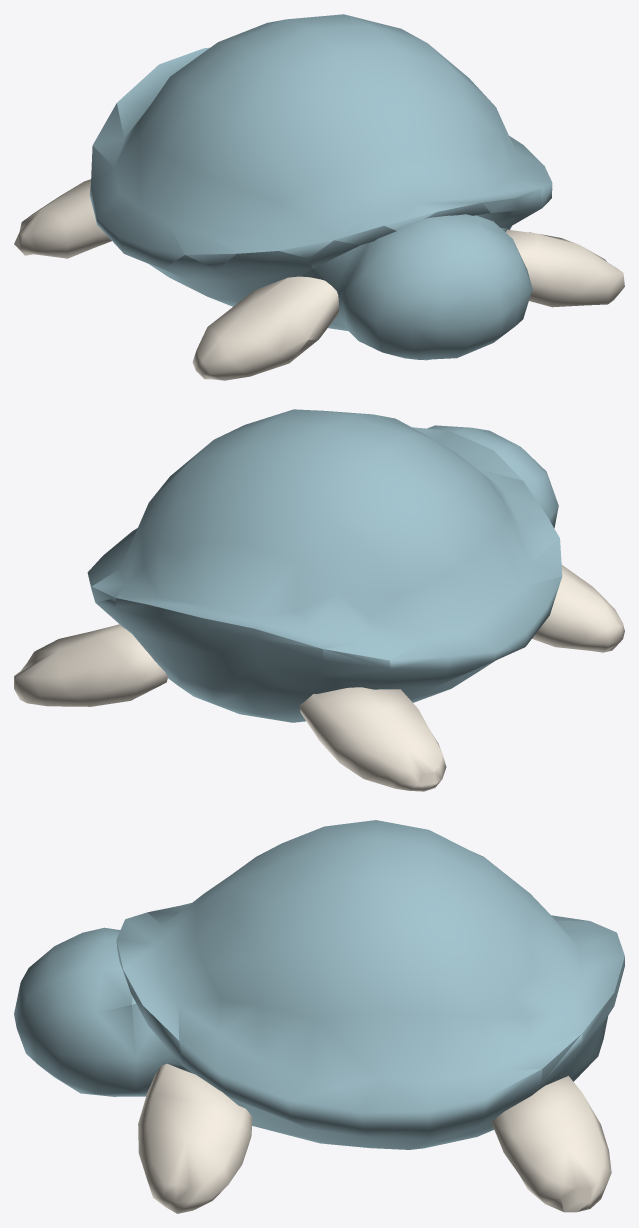
The model's file is bedroom_turtle.glb.
3 renders of one model, top to bottom at view 1: azimuth 30°, elevation 25°; view 2: azimuth 150°, elevation 25°; view 3: azimuth 270°, elevation 25°, orthographic. The views are drawn at different scales.
Size of the model in its own units: 0.7 by 0.4154 by 0.84.
